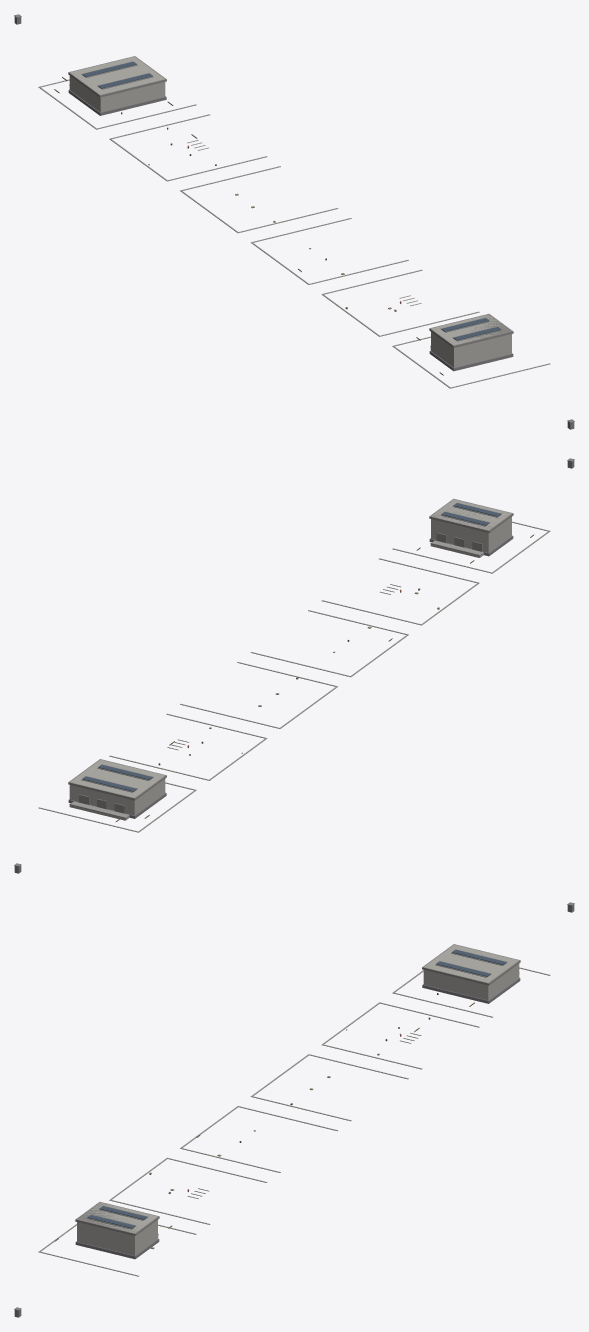
The model's file is city_cell_-4_0.glb.
3 views of the same model, one above another, from view 1: azimuth 30°, elevation 25°; view 2: azimuth 150°, elevation 25°; view 3: azimuth 330°, elevation 25° (orthographic).
Parts seen in each view (by area): view 1: Cube.002; view 2: Cube.002; view 3: Cube.002.
Part boxes in pixels (left/top/right/bottom): Cube.002: left=14, top=14, right=574, bottom=429; Cube.002: left=14, top=458, right=574, bottom=873; Cube.002: left=14, top=902, right=574, bottom=1317.
Bounding box in the file's own units: 45 × 11.46 × 432.
